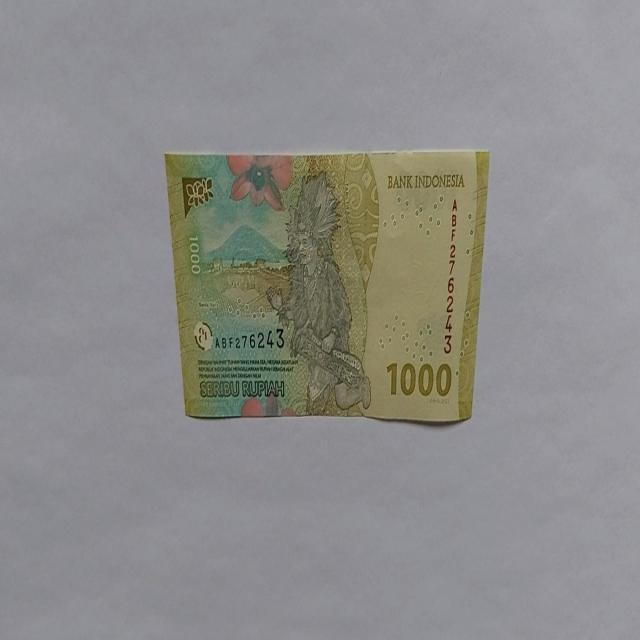seribu rupiah kertas: (164, 148, 491, 424)
